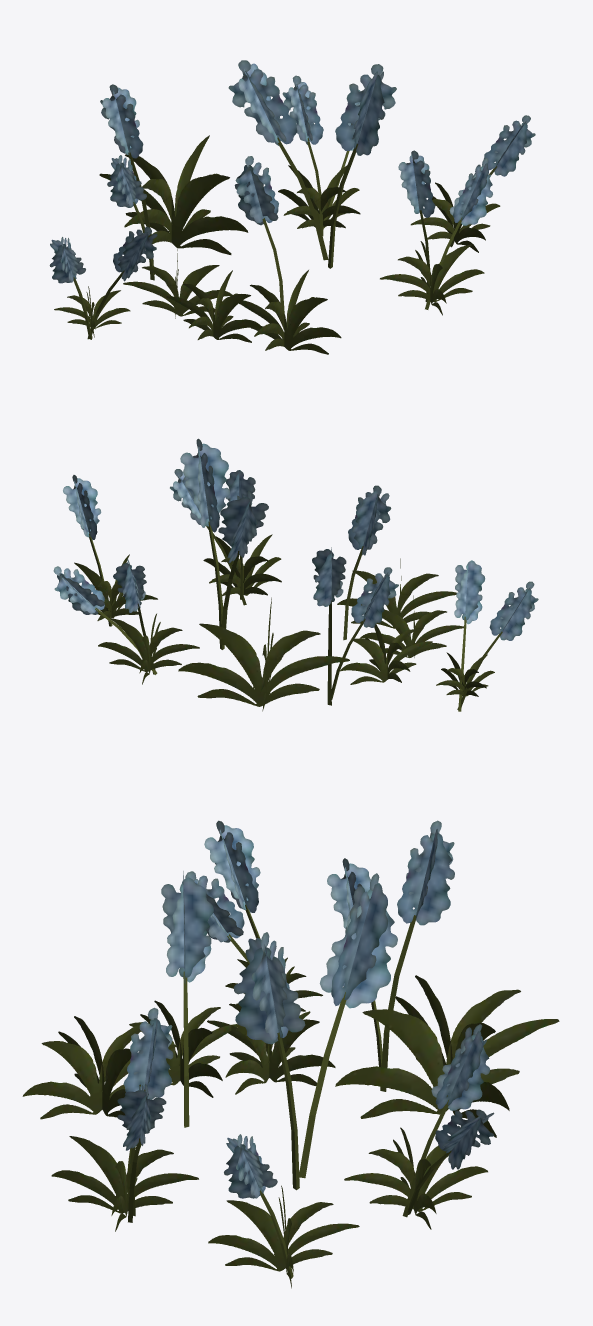
3 renders of one model, top to bottom at view 1: azimuth 30°, elevation 25°; view 2: azimuth 150°, elevation 25°; view 3: azimuth 270°, elevation 25°, orthographic. The views are drawn at different scales.
Visible parts, largest first — view 1: body0_model0_lod0_mesh0; view 2: body0_model0_lod0_mesh0; view 3: body0_model0_lod0_mesh0.
Boxes of the visible parts, <box> form: body0_model0_lod0_mesh0: <box>49,60,535,354</box>; body0_model0_lod0_mesh0: <box>53,438,538,711</box>; body0_model0_lod0_mesh0: <box>22,820,559,1288</box>.
Size of the model in its own units: 129 by 54.03 by 81.95.
Materials: 1 (1 with a texture image).
